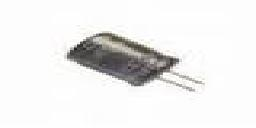Electrolytic-Capacitor: (60, 29, 210, 100)
